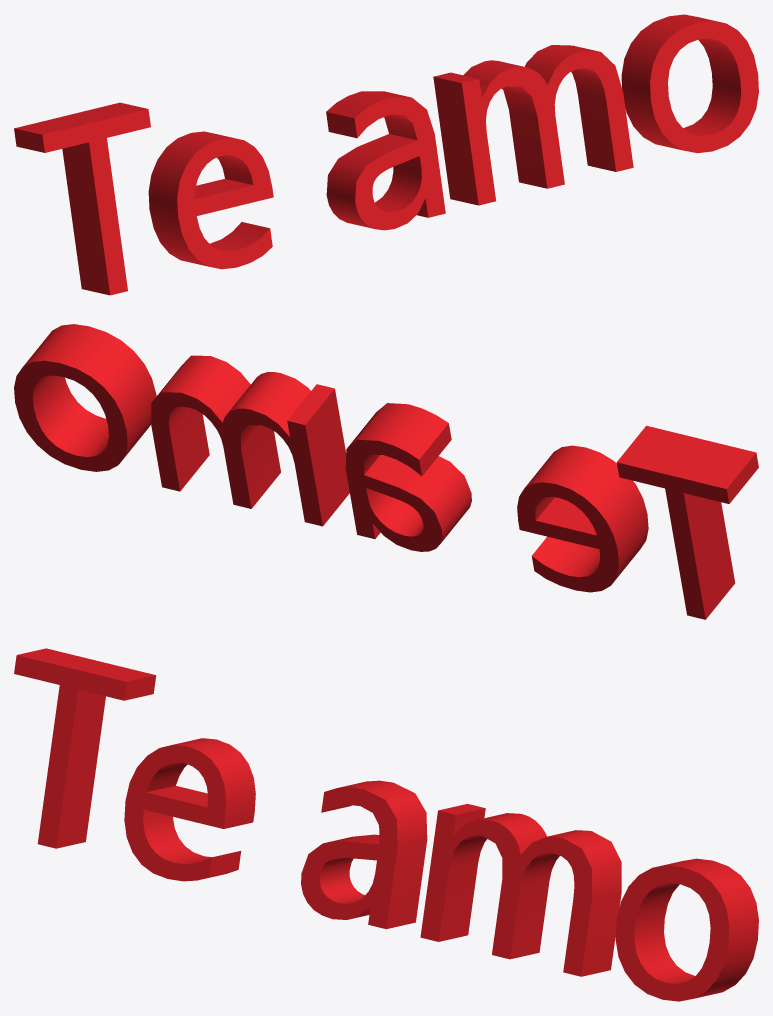
Rendered from asset.glb.
3 views of the same model, one above another, from view 1: azimuth 30°, elevation 25°; view 2: azimuth 150°, elevation 25°; view 3: azimuth 330°, elevation 25° (orthographic). The views are drawn at different scales.
Parts seen in each view (by area): view 1: mesh_id36; view 2: mesh_id36; view 3: mesh_id36.
Part boxes in pixels (x1,y1,x2,y2): mesh_id36: (14,14,758,295); mesh_id36: (14,324,758,619); mesh_id36: (14,648,758,1001).
Bounding box in the file's own units: 0.2049 × 0.0478 × 0.0267.
Materials: 1 (1 with a texture image).
